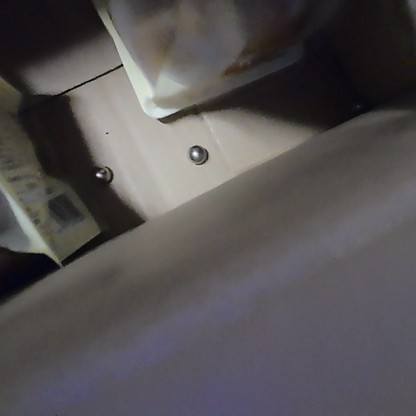ironball: (183, 140, 208, 167), (90, 161, 111, 185)
